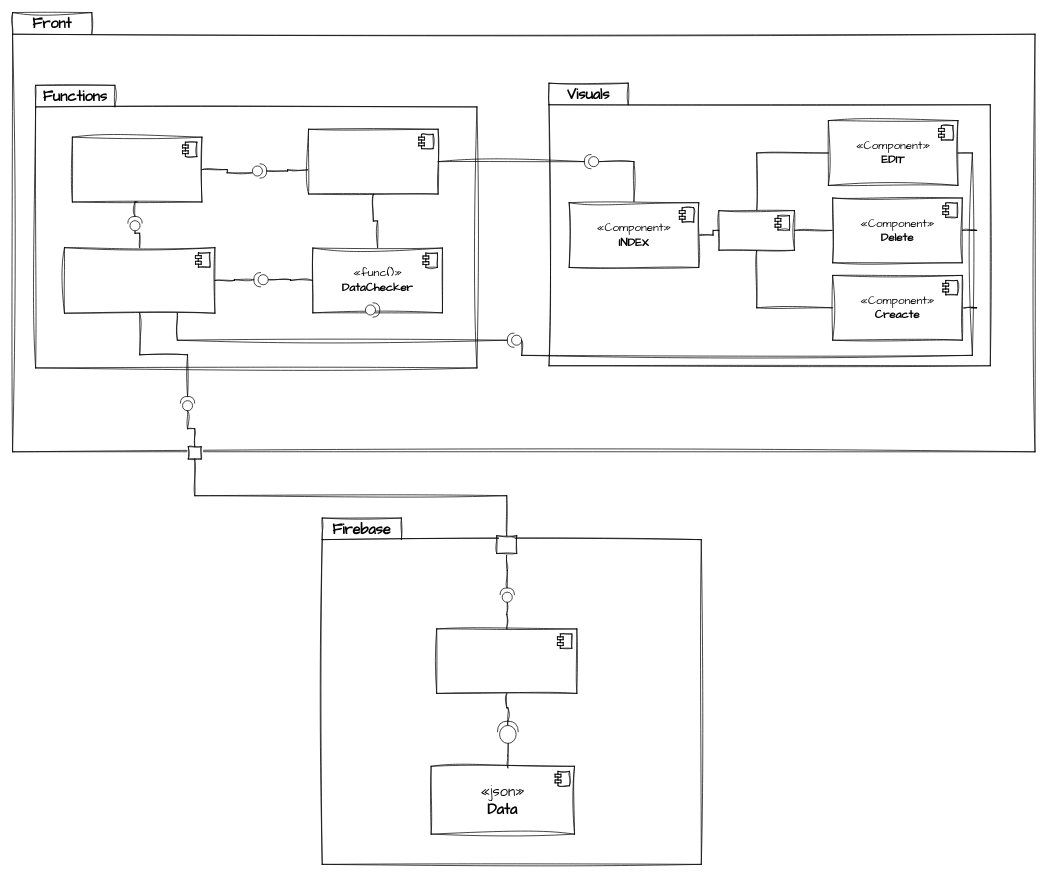
Image size: 1048x877. Some labels were removed from this diagram. The shapes that lost their labels are listed below. From the top down, each one's centre as x and y in pixels, then its label:
At (x=137, y=169): "«DATA» Productos".
At (x=373, y=161): "«func()» SearchList".
At (x=756, y=230): "Options".
At (x=139, y=280): "«func()» firebaseCRUD".
At (x=506, y=660): "«HTTP» data_manager".
